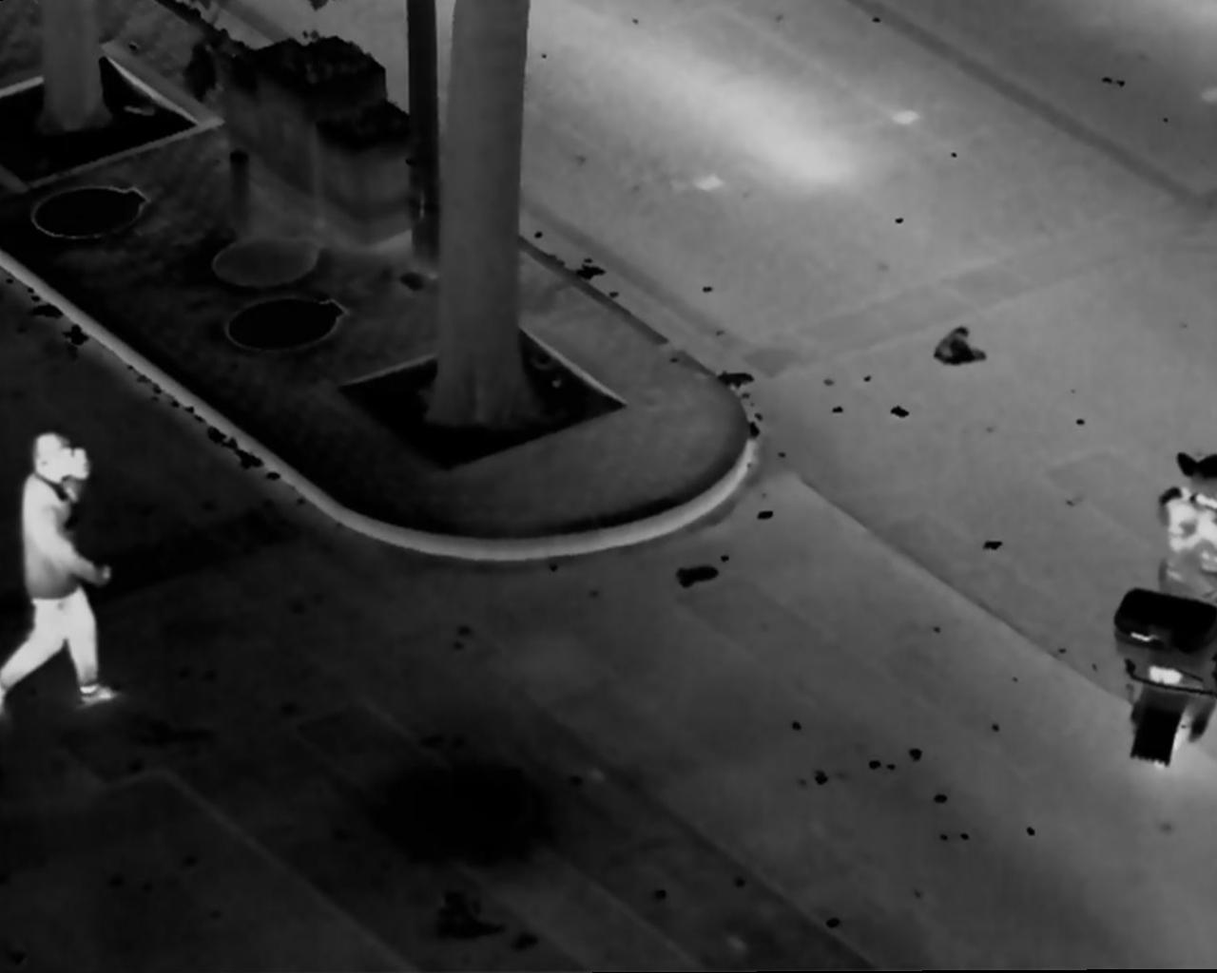person: (5, 423, 123, 709), (1162, 441, 1217, 615)
